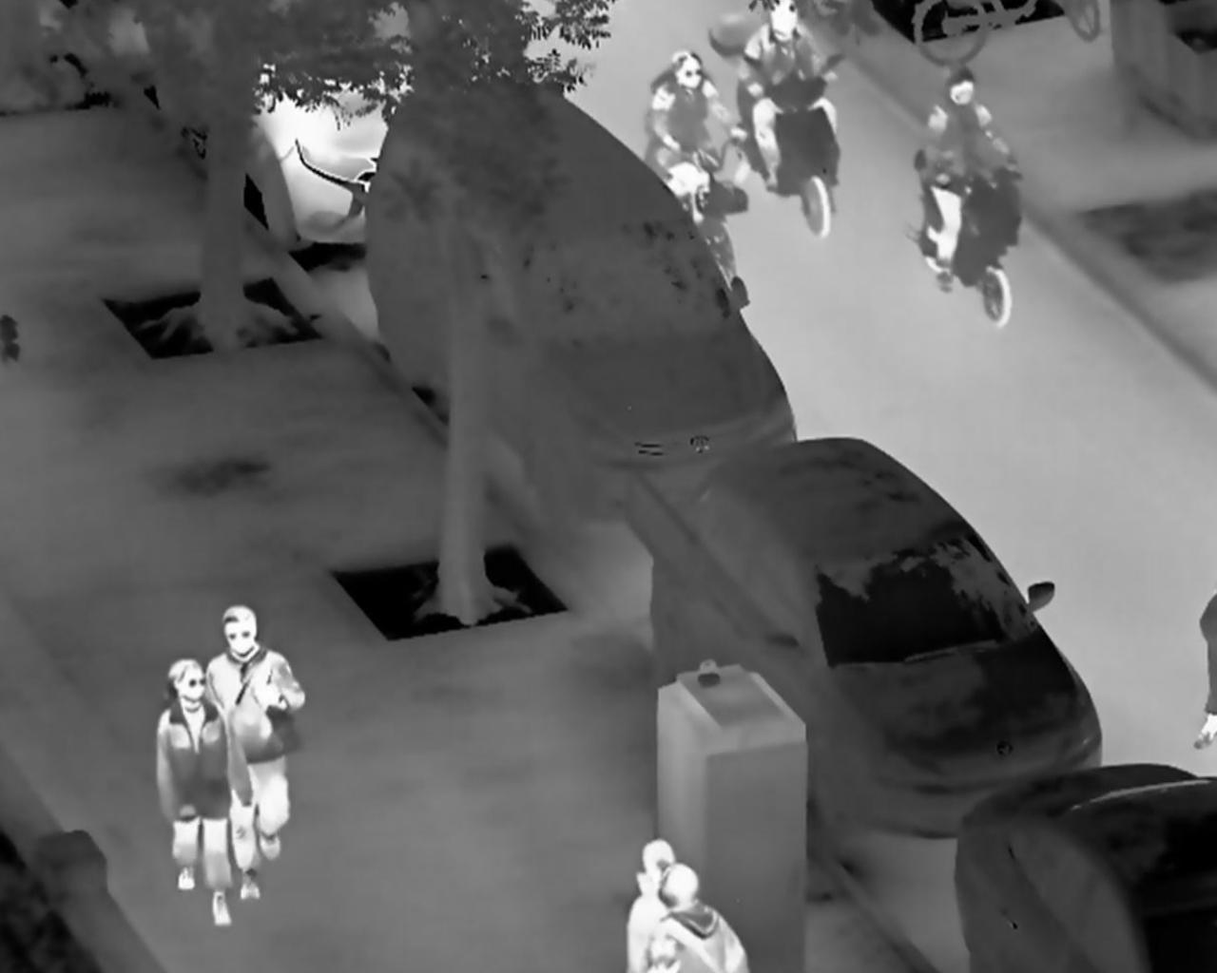person: (199, 603, 310, 901), (152, 657, 256, 928), (918, 67, 1019, 293), (739, 2, 837, 190), (647, 47, 750, 219), (644, 856, 752, 973), (615, 831, 683, 973)
